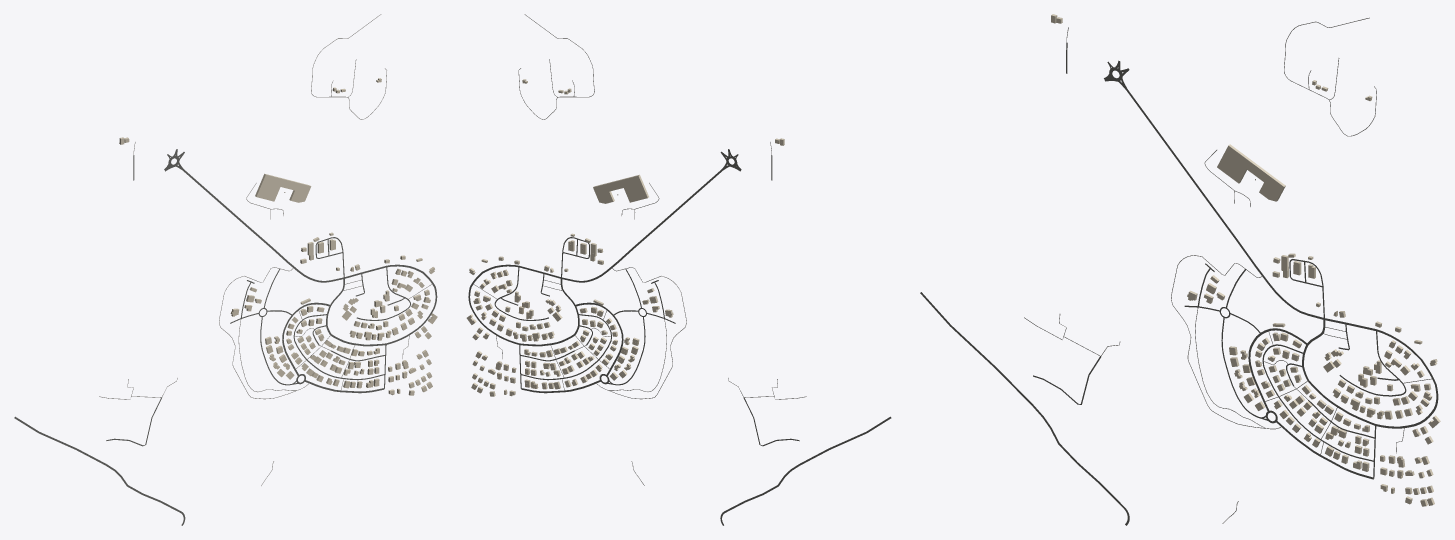
The model's file is historic-palestine-10_30_3516_3247.glb.
The picture shows the model from 3 angles, left to right: view 1: azimuth 30°, elevation 25°; view 2: azimuth 150°, elevation 25°; view 3: azimuth 330°, elevation 25°; orthographic projection. The views are drawn at different scales.
Visible parts, largest first — view 1: Building_.154, Road הרימון, Road .005, Road .004; view 2: Building_.154, Road הרימון, Road .005; view 3: Building_.154, Road הרימון, Road .005, Road .004.
Boxes of the visible parts, x1,y1,x2,y2 form: Building_.154: (255, 173, 311, 202); Road הרימון: (326, 264, 437, 346); Road .005: (14, 416, 185, 525); Road .004: (182, 169, 344, 282); Building_.154: (593, 174, 648, 203); Road הרימון: (468, 264, 579, 346); Road .005: (720, 416, 891, 525); Building_.154: (1217, 144, 1285, 201); Road הרימון: (1302, 318, 1438, 428); Road .005: (920, 292, 1129, 525); Road .004: (1126, 89, 1324, 319).
Size of the model in its own units: 1296 by 1355 by 8.7.
